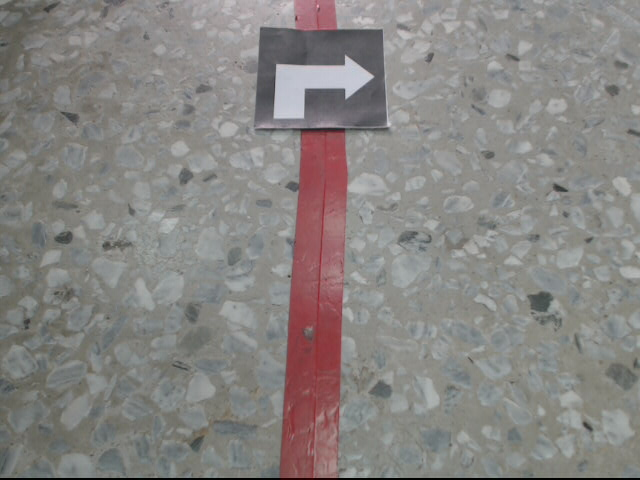right: (255, 26, 387, 131)
